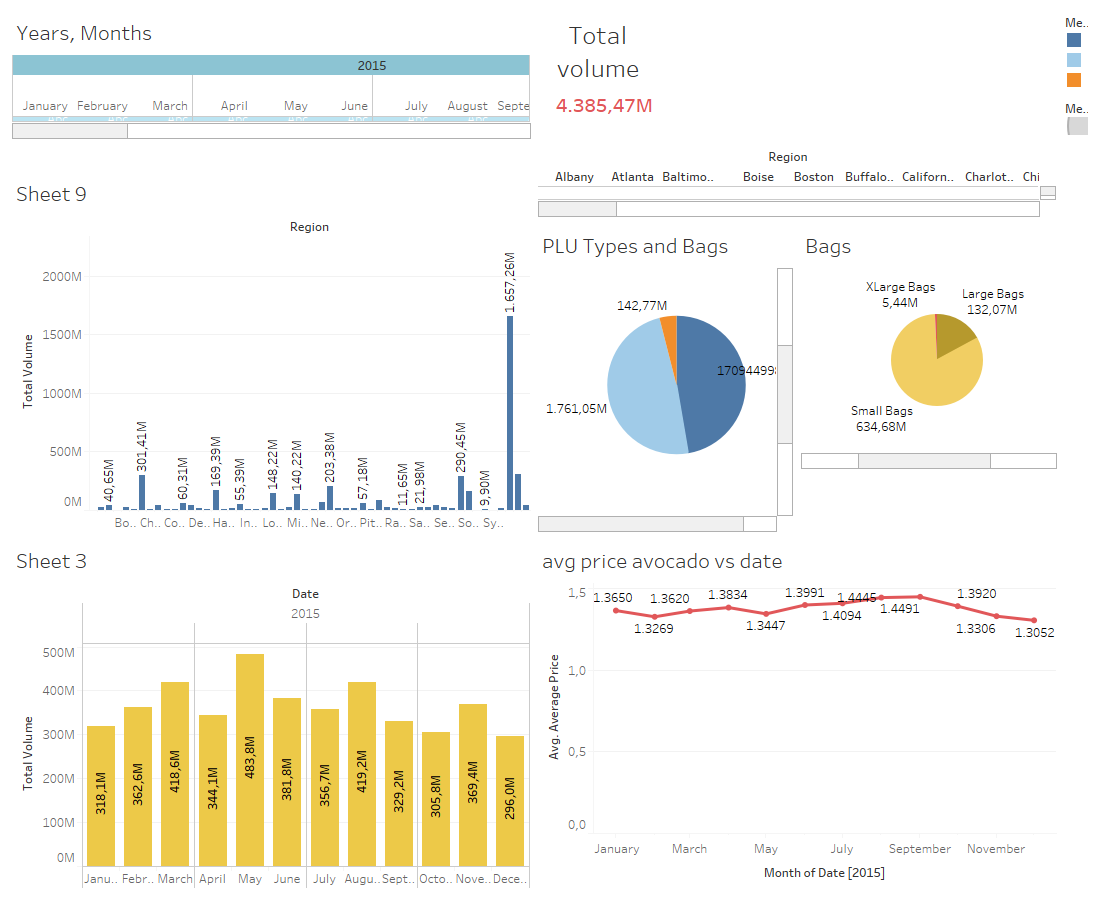

The page's visual inventory and layout, read from the dashboard file:
{"tool":"tableau","page":{"name":"Dashboard 1","canvas":[1100,900],"ordinal":0},"visuals":[{"type":"worksheet","box":[0,0,1100,900]},{"type":"worksheet","param":"horz","box":[8,8,1084,884]},{"type":"worksheet","box":[8,8,1052,884]},{"type":"worksheet","title":"months","mark":"Automatic","cols":["Date","Date","Date"],"box":[8,8,526,161.2]},{"type":"worksheet","title":"Sheet 10","mark":"Automatic","box":[534,8,526,119]},{"type":"worksheet","param":"vert","box":[1060,8,32,884]},{"type":"worksheet","title":"plu types and bags","mark":"Pie","param":"[federated.0793f3o1xo8f9s1eh37gt0b5n5p1].[:Measure Names]","box":[1060,8,32,86]},{"type":"worksheet","title":"Bags","mark":"Pie","param":"[federated.0793f3o1xo8f9s1eh37gt0b5n5p1].[Multiple Values]","box":[1060,94,32,68]},{"type":"worksheet","title":"Regions","mark":"Automatic","cols":["region"],"box":[534,127,526,94]},{"type":"worksheet","title":"Sheet 9","mark":"Bar","rows":["Total Volume"],"cols":["region"],"box":[8,169.2,526,366.5]},{"type":"worksheet","title":"plu types and bags","mark":"Pie","box":[534,221,263,314.7]},{"type":"worksheet","title":"Bags","mark":"Pie","box":[797,221,263,314.7]},{"type":"worksheet","title":"Sheet 3","mark":"Bar","rows":["Total Volume"],"cols":["Date","Date","Date"],"box":[8,535.7,526,356.3]},{"type":"worksheet","title":"Sheet 4","mark":"Automatic","rows":["AveragePrice"],"cols":["Date"],"box":[534,535.7,526,356.3]}]}

Visuals, with their boxes in screenshot pixels (x1, y1, x2, y2), scaled from the page's 1100x900 canvas onto the 1100x900 screenshot:
worksheet: 0:0:1099:899
worksheet: 8:8:1092:892
worksheet: 8:8:1060:892
"months" worksheet: 8:8:534:169
"Sheet 10" worksheet: 534:8:1060:127
worksheet: 1060:8:1092:892
"plu types and bags" worksheet (Pie marks): 1060:8:1092:94
"Bags" worksheet (Pie marks): 1060:94:1092:162
"Regions" worksheet: 534:127:1060:221
"Sheet 9" worksheet (Bar marks): 8:169:534:536
"plu types and bags" worksheet (Pie marks): 534:221:797:536
"Bags" worksheet (Pie marks): 797:221:1060:536
"Sheet 3" worksheet (Bar marks): 8:536:534:892
"Sheet 4" worksheet: 534:536:1060:892
